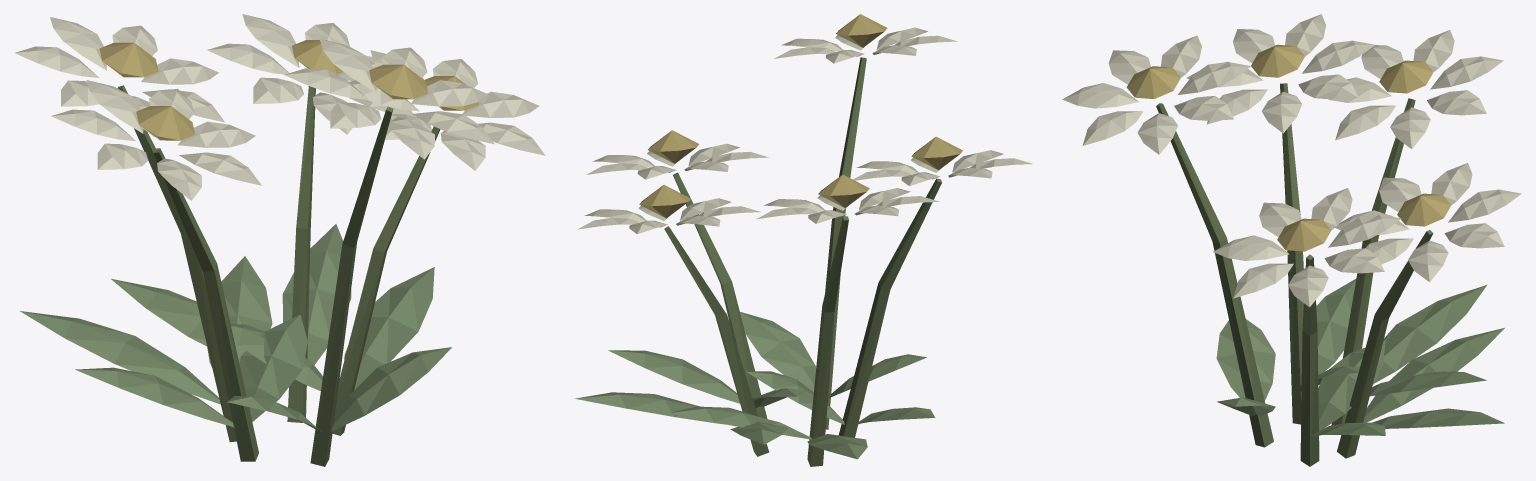
File: alpine_flower_a.glb
3 views of the same model, side by side, from view 1: azimuth 30°, elevation 25°; view 2: azimuth 150°, elevation 25°; view 3: azimuth 270°, elevation 25° (orthographic). The views are drawn at different scales.
Visible parts, largest first — view 1: geometry; view 2: geometry; view 3: geometry.
Boxes of the visible parts, x1,y1,x2,y2 form: geometry: [15, 14, 545, 466]; geometry: [575, 14, 1032, 466]; geometry: [1062, 14, 1521, 466].
Bounding box in the file's own units: 0.514 × 0.4496 × 0.4869.
